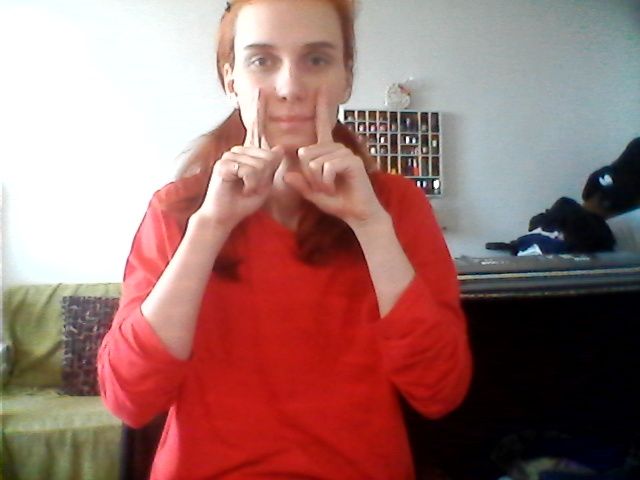h: (215, 90, 373, 222)
